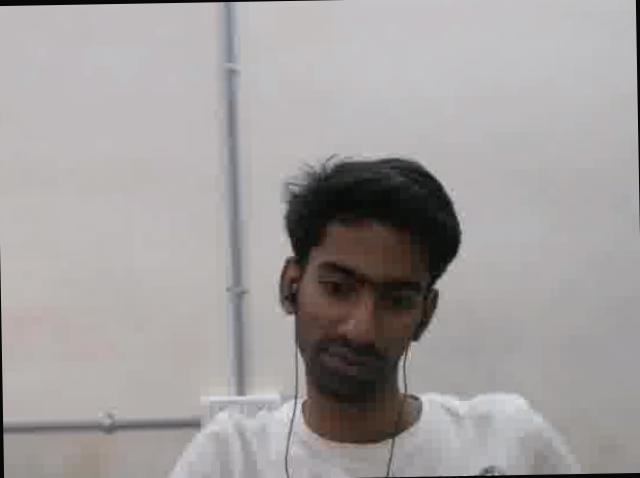bosan: (299, 224, 437, 394)
